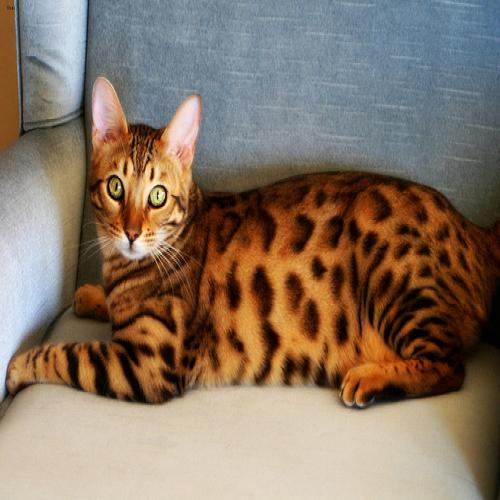bengal: (84, 77, 206, 274)
